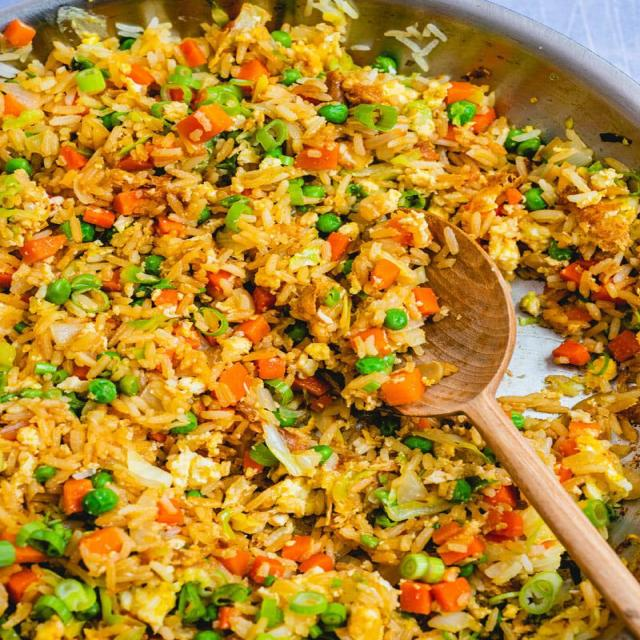Nasi Goreng: (1, 2, 636, 637)
